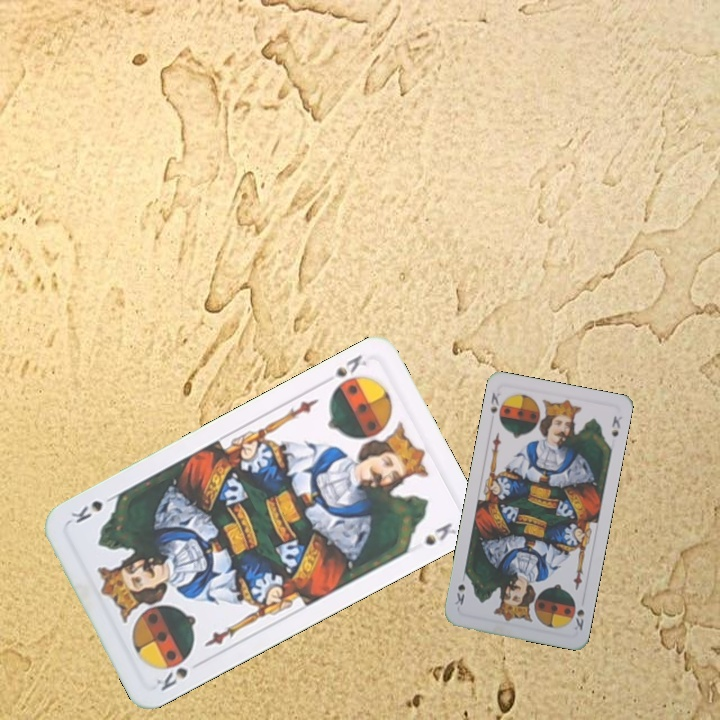SK: (318, 350, 369, 395), (152, 656, 206, 694), (486, 386, 507, 425), (567, 597, 587, 633)
